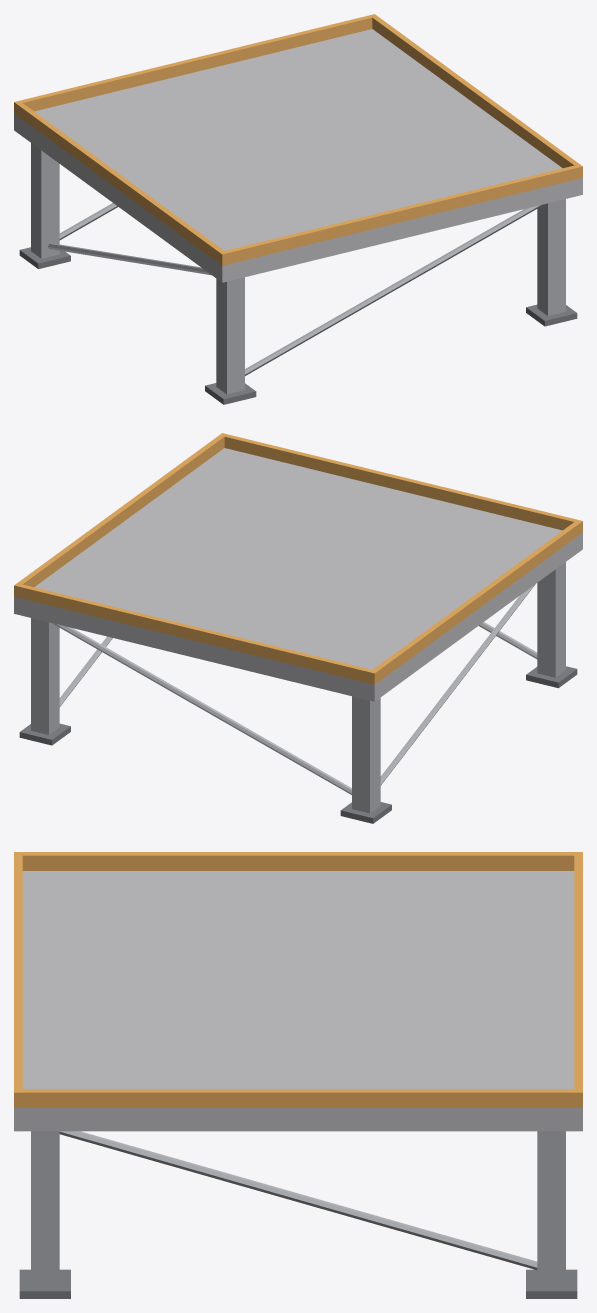
File: modular-greybox-architecture-kit-ramp-switchback-landi-6dcef6ad__22876.glb
3 views of the same model, one above another, from view 1: azimuth 30°, elevation 25°; view 2: azimuth 150°, elevation 25°; view 3: azimuth 270°, elevation 25° (orthographic). The views are drawn at different scales.
Visible parts, largest first — view 1: ramp-switchback-landing; view 2: ramp-switchback-landing; view 3: ramp-switchback-landing.
Boxes of the visible parts, <box> form: ramp-switchback-landing: <box>14,14,582,404</box>; ramp-switchback-landing: <box>14,433,582,823</box>; ramp-switchback-landing: <box>14,852,582,1298</box>.
Size of the model in its own units: 4 by 1.62 by 4.
